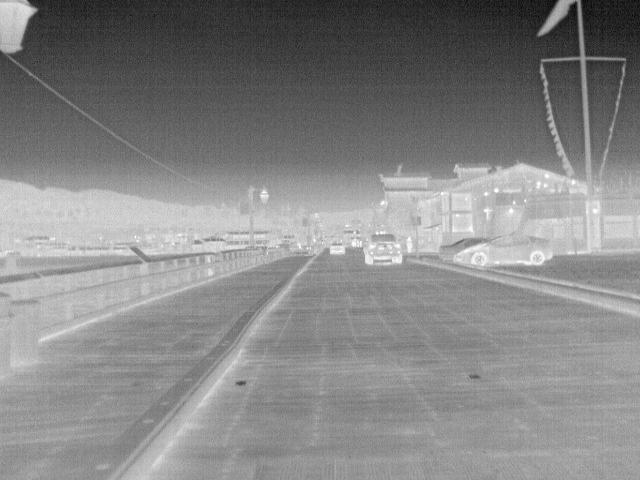car: (454, 233, 556, 267), (363, 231, 406, 266), (438, 236, 490, 264), (328, 241, 346, 256)
person: (404, 235, 414, 255)
